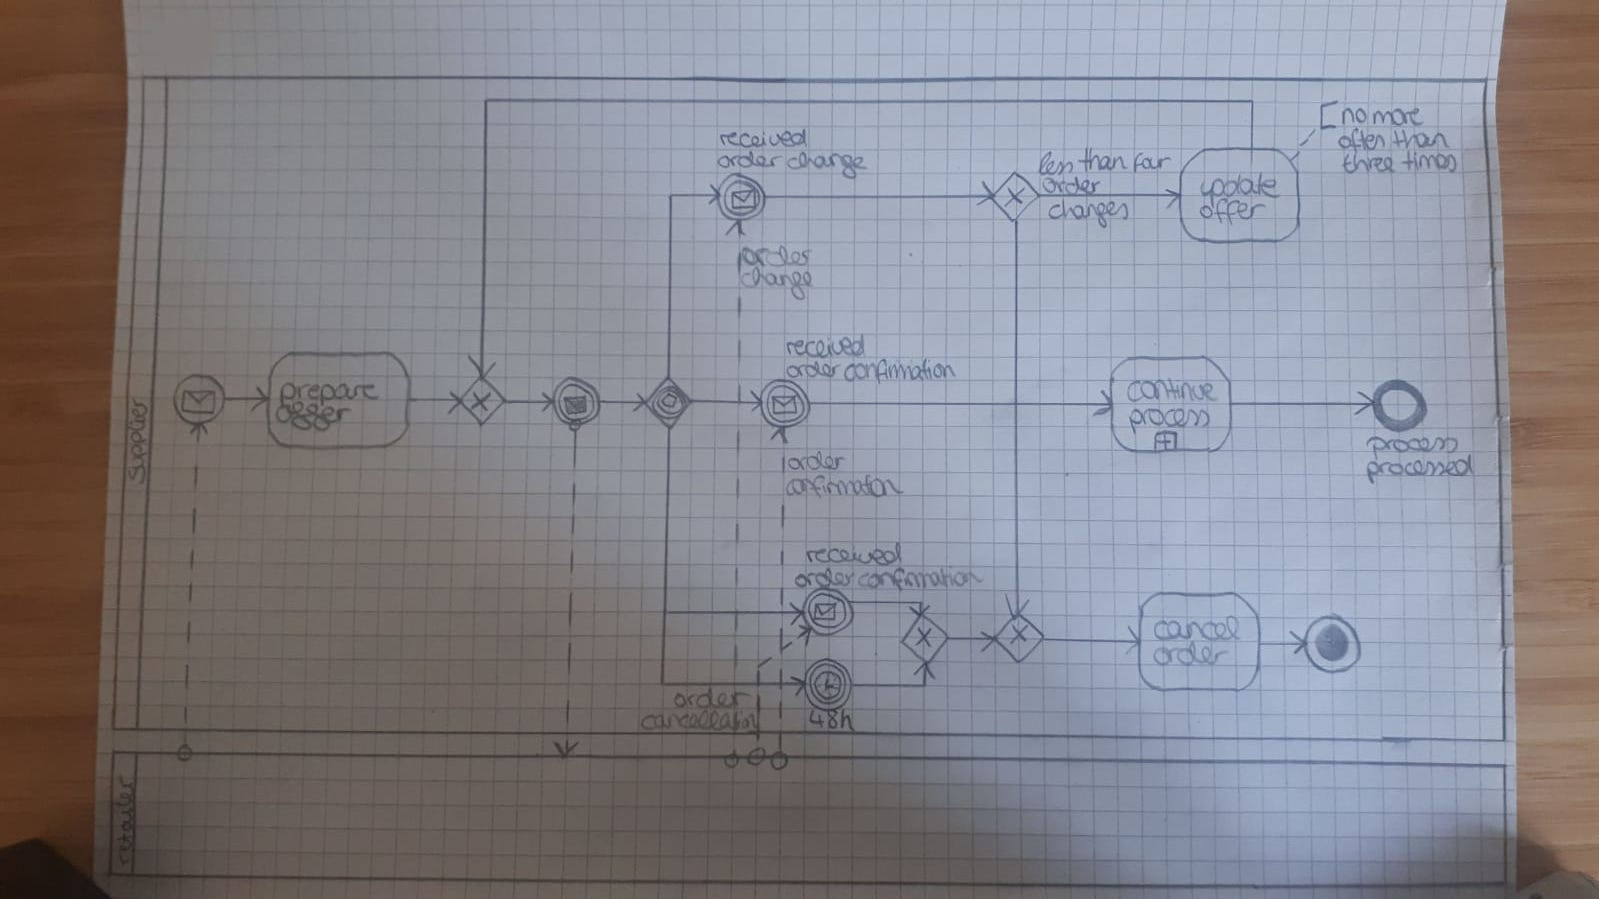48h: (802, 704, 862, 732)
cancel: (1156, 613, 1244, 642)
cancelled: (639, 710, 758, 737)
change: (789, 148, 864, 177), (737, 270, 813, 293)
changes: (1050, 198, 1128, 224)
confirmation: (845, 357, 950, 385), (857, 569, 976, 589), (785, 475, 902, 496)
continue: (1126, 379, 1214, 406)
four: (1122, 149, 1178, 173)
less: (1028, 150, 1075, 178)
more: (1369, 103, 1419, 130)
no: (1340, 106, 1368, 125)
offer: (268, 398, 357, 428), (1197, 199, 1273, 222)
often: (1331, 130, 1391, 153)
order: (709, 148, 787, 177), (737, 238, 810, 266), (672, 686, 748, 712), (771, 451, 853, 475), (1036, 170, 1100, 200), (1156, 643, 1234, 667), (780, 358, 845, 384), (790, 568, 862, 591)
prepare: (287, 380, 372, 408)
process: (1367, 432, 1469, 459), (1122, 407, 1214, 428)
processed: (1366, 458, 1471, 481)
received: (802, 544, 901, 568), (714, 124, 805, 148), (783, 331, 865, 358)
retailer: (111, 766, 134, 870)
supplier: (126, 395, 150, 485)
than: (1386, 128, 1452, 151), (1074, 149, 1123, 176)
three: (1339, 151, 1396, 176)
times: (1396, 151, 1460, 175)
update: (1198, 169, 1278, 199)
